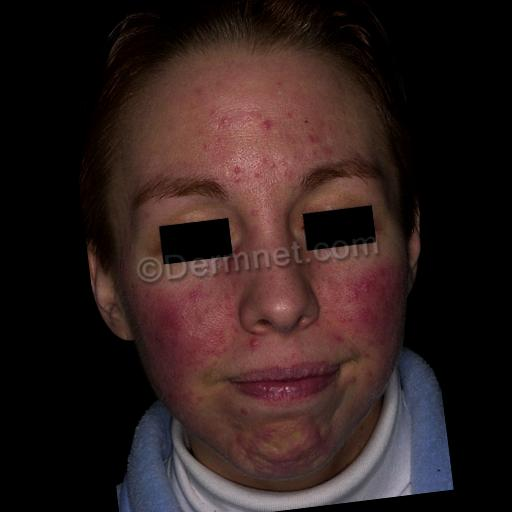Skin_Lesion: (147, 290, 209, 362), (350, 260, 398, 330), (233, 428, 257, 464), (306, 423, 328, 455), (253, 114, 283, 135), (226, 162, 246, 184), (246, 334, 262, 356), (200, 136, 210, 157), (142, 204, 152, 222), (312, 130, 322, 144)
